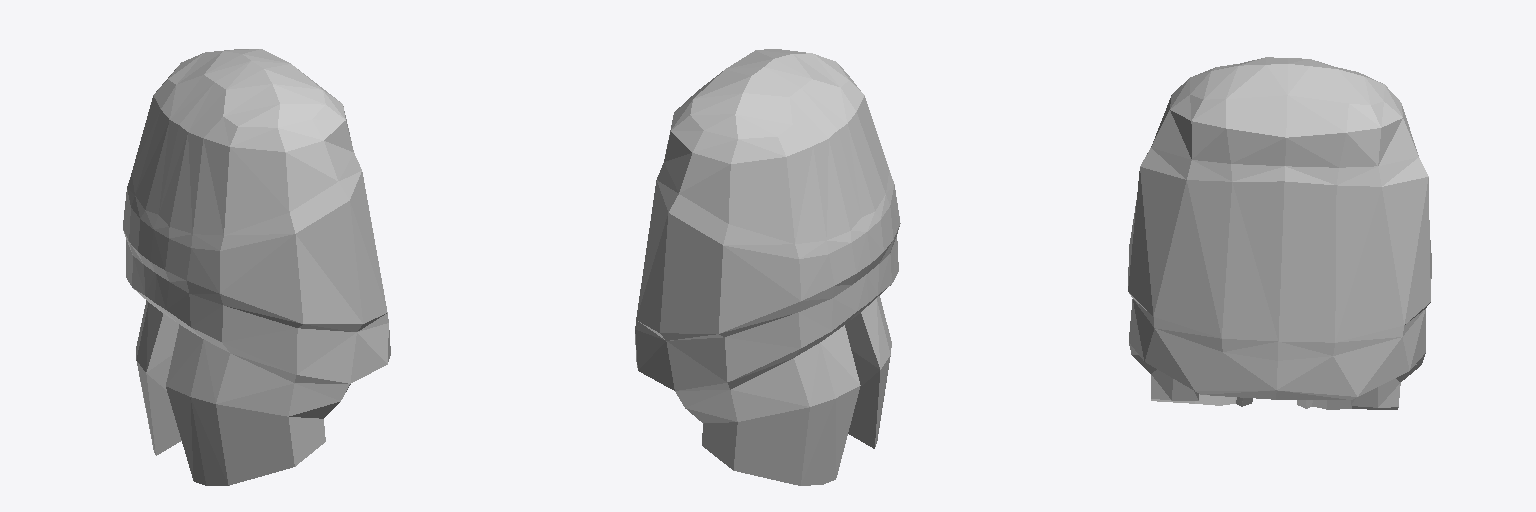
File: RFinger23.obj
3 views of the same model, side by side, from view 1: azimuth 30°, elevation 25°; view 2: azimuth 150°, elevation 25°; view 3: azimuth 270°, elevation 25° (orthographic).
Parts seen in each view (by area): view 1: RFinger23_RFinger23; view 2: RFinger23_RFinger23; view 3: RFinger23_RFinger23.
Boxes of the visible parts, box(x1,y1,x2,y2) form: RFinger23_RFinger23: box(123, 49, 390, 485); RFinger23_RFinger23: box(635, 49, 900, 485); RFinger23_RFinger23: box(1128, 57, 1431, 409).
Size of the model in its own units: 0.017 by 0.03 by 0.0215.